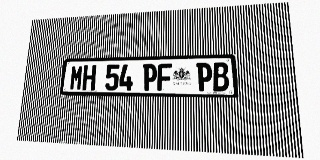4: (119, 64, 133, 91)
5: (105, 64, 120, 91)
B: (212, 62, 229, 91)
F: (157, 63, 172, 91)
H: (82, 65, 96, 90)
M: (69, 65, 84, 90)
P: (196, 63, 213, 91), (142, 64, 157, 91)
